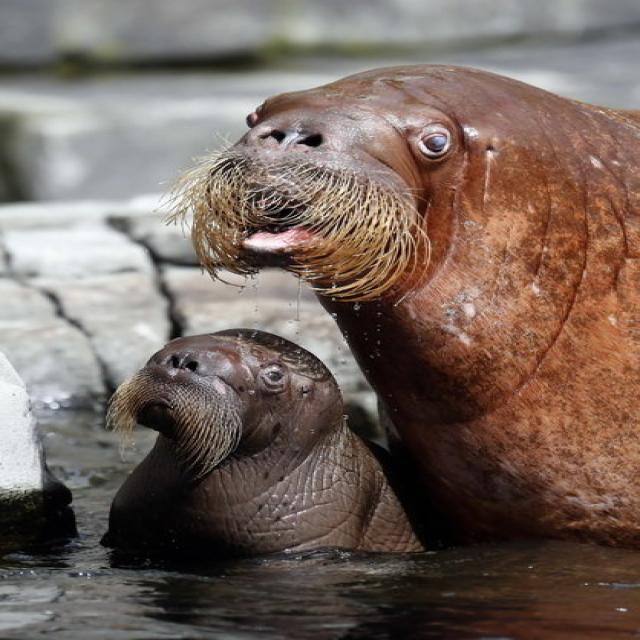walrus: (56, 27, 606, 313), (64, 323, 381, 581)
